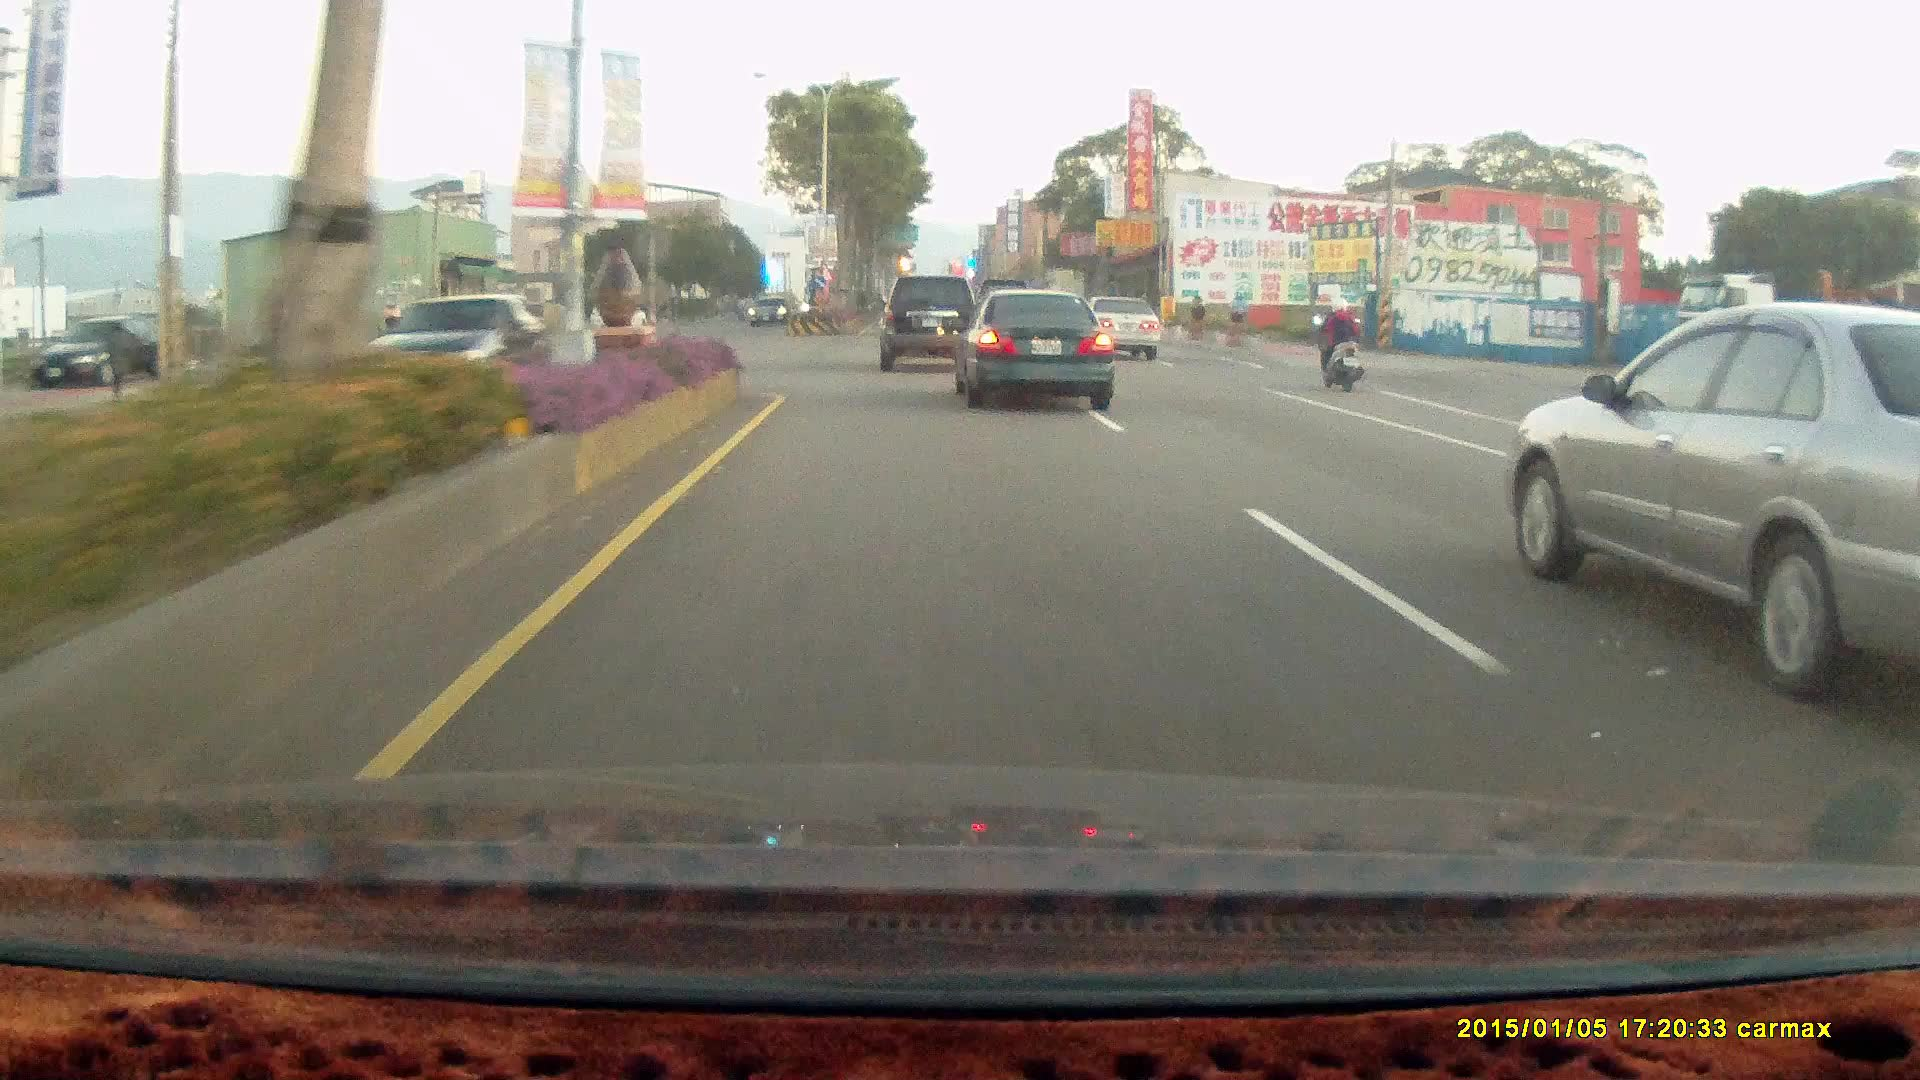pedestrian: (101, 319, 128, 394)
rider: (1305, 288, 1375, 398), (1308, 294, 1364, 391)
vehicle: (1511, 300, 1920, 701), (1669, 272, 1920, 382), (358, 290, 557, 397), (942, 291, 1106, 411), (365, 295, 558, 397), (960, 295, 1121, 416), (880, 274, 985, 374), (32, 313, 161, 392), (31, 313, 160, 391), (877, 275, 977, 372), (1078, 296, 1164, 363), (1078, 295, 1163, 362), (747, 297, 793, 331), (746, 294, 790, 325)
